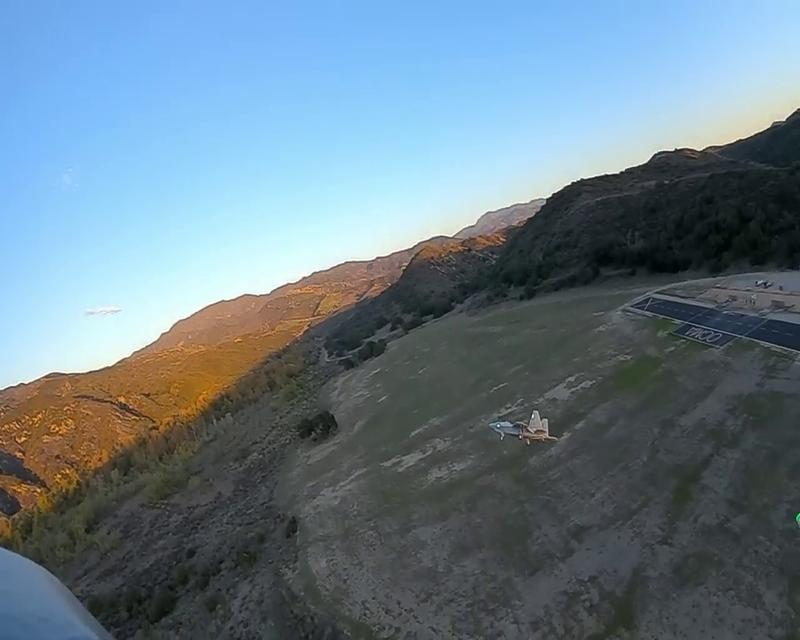UAV: (487, 408, 559, 446)
